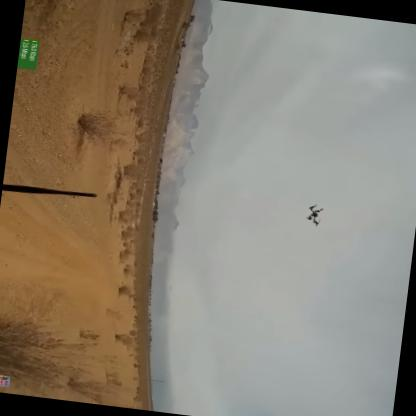drone: (298, 199, 331, 232)
